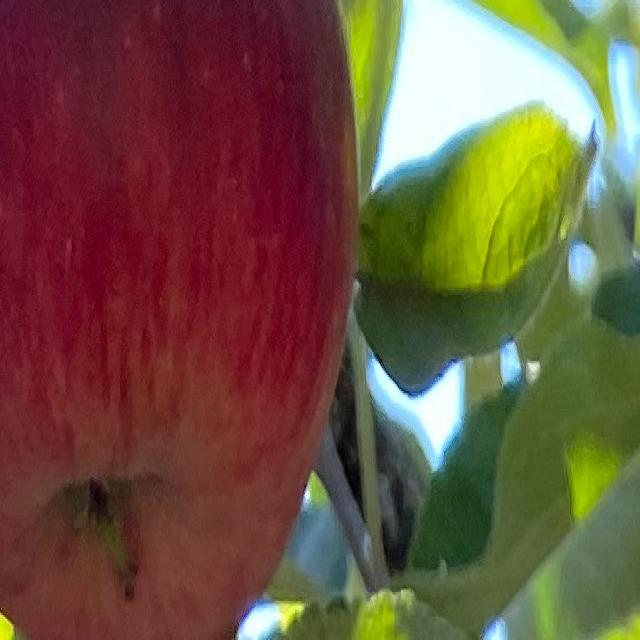Apples: (0, 0, 360, 638)
